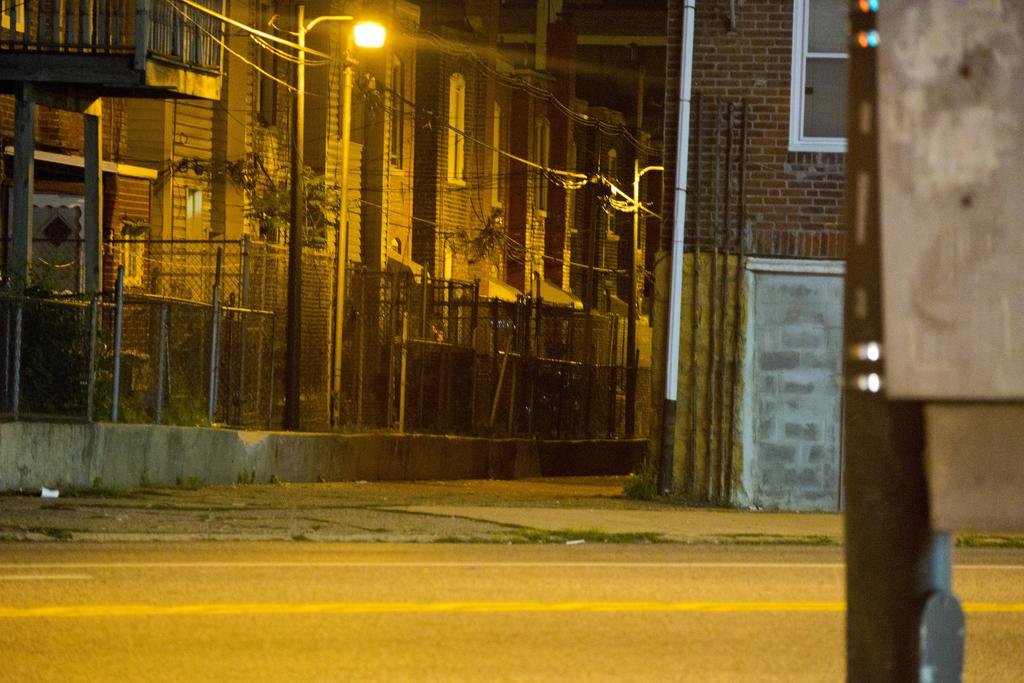Tree: (244, 165, 349, 257)
